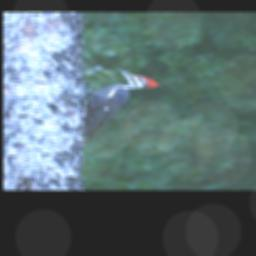Woodpecker: (79, 65, 158, 142)
